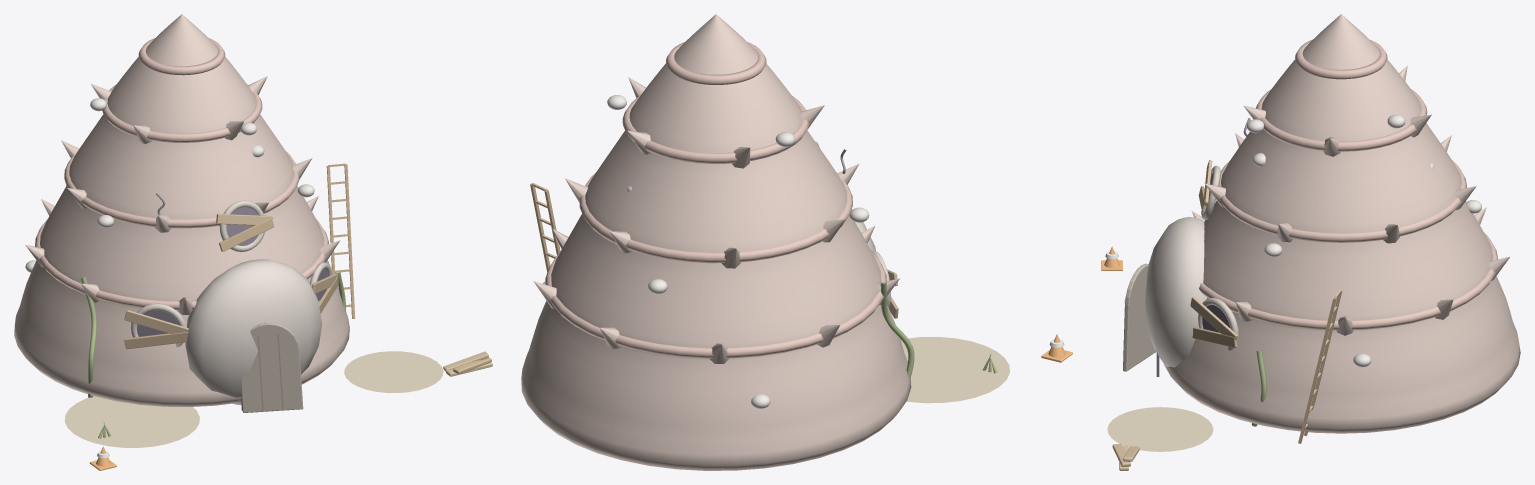
Rendered from building_ocean_L02.glb.
3 views of the same model, side by side, from view 1: azimuth 30°, elevation 25°; view 2: azimuth 150°, elevation 25°; view 3: azimuth 270°, elevation 25° (orthographic). The views are drawn at different scales.
Parts seen in each view (by area): view 1: Body, ocean_L2; view 2: Body, ocean_L2; view 3: Body, ocean_L2.
Part boxes in pixels (x1=…): Body: x1=14, y1=14, x2=349, y2=412; ocean_L2: x1=64, y1=163, x2=492, y2=470; Body: x1=521, y1=14, x2=914, y2=470; ocean_L2: x1=530, y1=183, x2=1072, y2=403; Body: x1=1123, y1=14, x2=1520, y2=433; ocean_L2: x1=1101, y1=246, x2=1342, y2=470.
Size of the model in its own units: 20.56 by 16.4 by 17.39.
